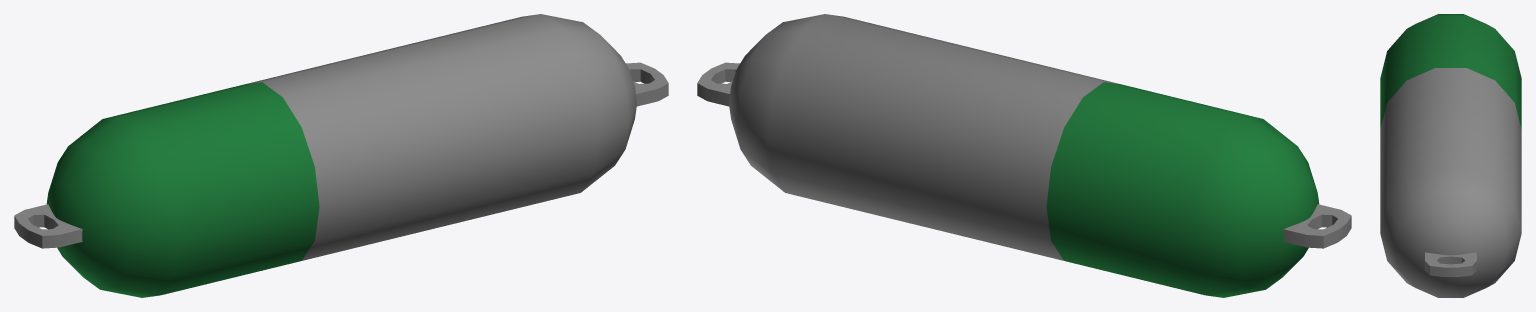
The model's file is prop_33.FBX.
3 views of the same model, side by side, from view 1: azimuth 30°, elevation 25°; view 2: azimuth 150°, elevation 25°; view 3: azimuth 270°, elevation 25° (orthographic). The views are drawn at different scales.
Parts seen in each view (by area): view 1: prop_33; view 2: prop_33; view 3: prop_33.
Part boxes in pixels (bbox=[...]): prop_33: bbox=[14, 14, 668, 297]; prop_33: bbox=[697, 14, 1351, 297]; prop_33: bbox=[1380, 14, 1521, 297].
Size of the model in its own units: 42.42 by 10.61 by 10.88.
